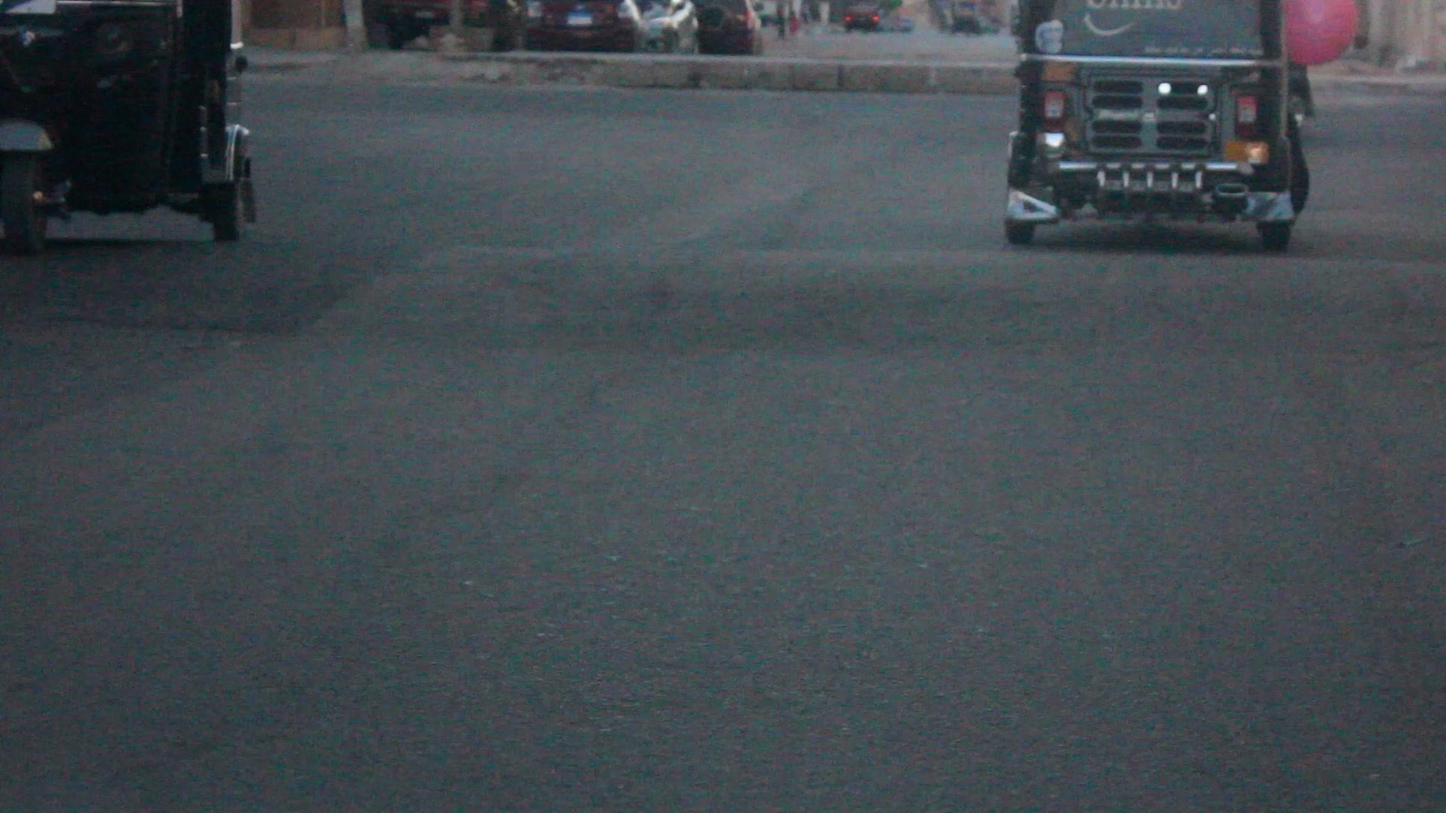Bump: (0, 236, 1445, 347)
